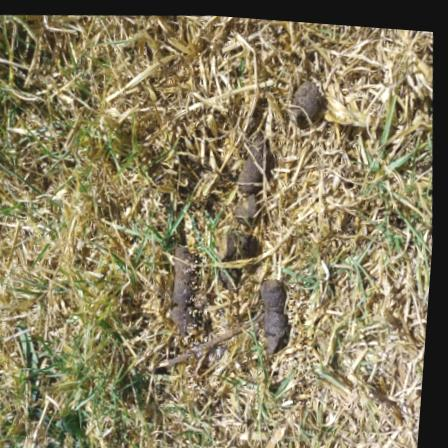dog-poop: (209, 141, 283, 279), (236, 262, 320, 359), (158, 235, 210, 337), (281, 70, 333, 125)
